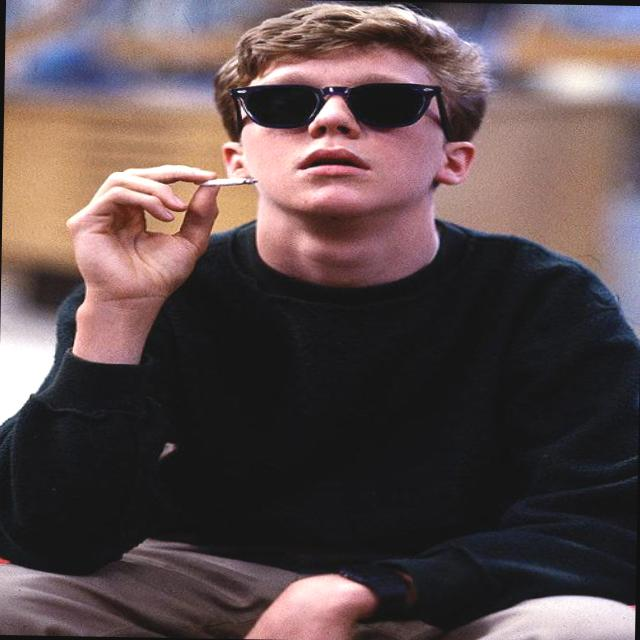cigarette: (188, 169, 266, 198)
